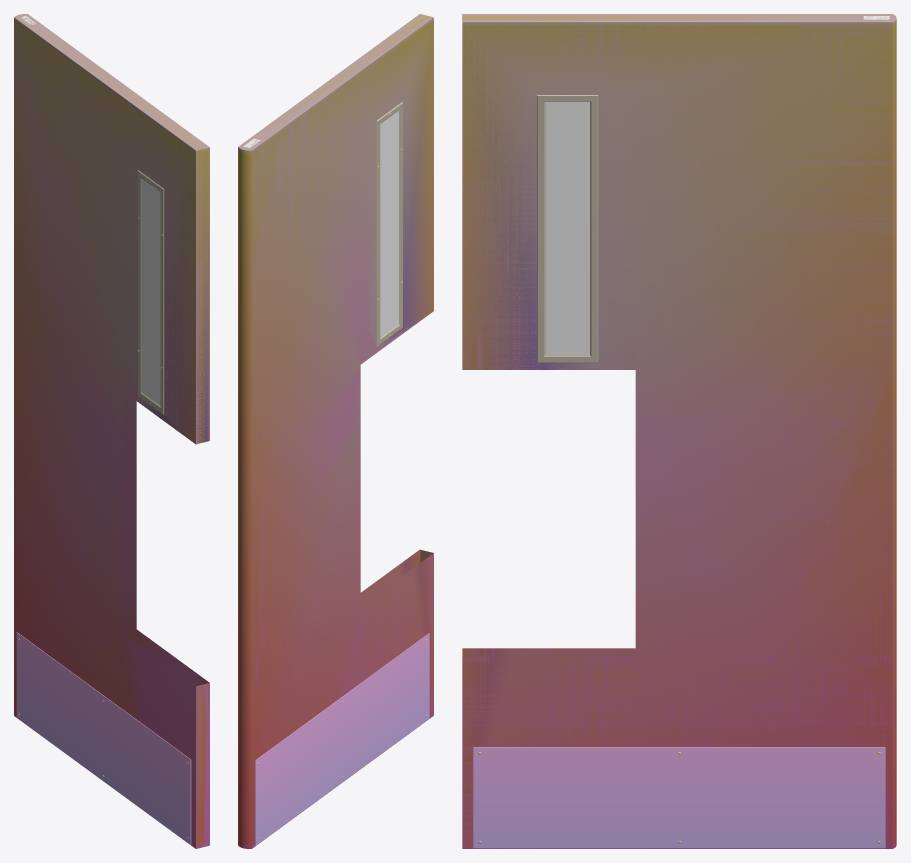
The model's file is Kit_DoorLeafBreak_SteelLite_DA.fbx.
3 views of the same model, side by side, from view 1: azimuth 30°, elevation 25°; view 2: azimuth 150°, elevation 25°; view 3: azimuth 270°, elevation 25° (orthographic). The views are drawn at different scales.
Visible parts, largest first — view 1: body_L0, body_L2, body_L1; view 2: body_L0, body_L2, body_L1; view 3: body_L0, body_L2, body_L1.
Part boxes in pixels (x1,y1,x2,y2): body_L0: (14,14,209,848); body_L2: (14,15,209,848); body_L1: (15,14,209,848); body_L0: (238,14,433,848); body_L2: (238,15,433,847); body_L1: (240,14,432,562); body_L0: (462,14,896,848); body_L2: (462,14,896,848); body_L1: (462,14,895,656).
Size of the model in its own units: 0.0498 by 2.08 by 0.99.
